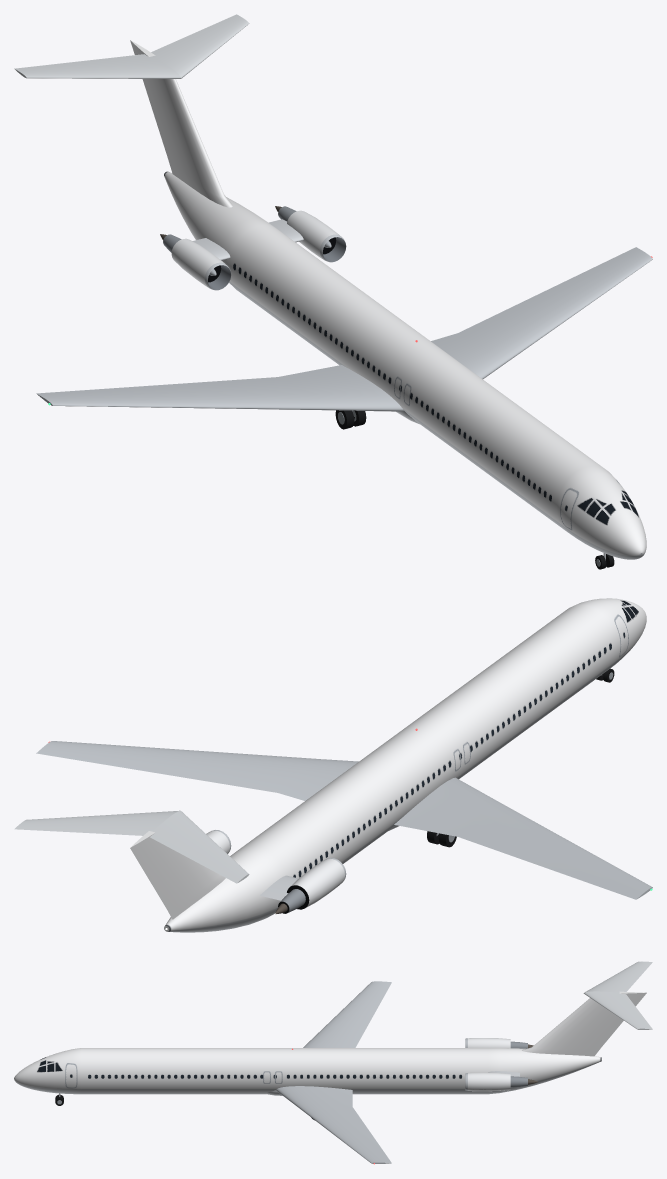
3 views of the same model, one above another, from view 1: azimuth 30°, elevation 25°; view 2: azimuth 150°, elevation 25°; view 3: azimuth 270°, elevation 25° (orthographic). The views are drawn at different scales.
Parts seen in each view (by area): view 1: body; view 2: body, gear; view 3: body.
Part boxes in pixels (x1,y1,x2,y2): body: (14, 14, 652, 559); body: (14, 598, 652, 932); gear: (427, 668, 614, 847); body: (14, 961, 652, 1164).
Bounding box in the file's own units: 33.09 × 9.55 × 48.99.
19 materials, 1 textured.
